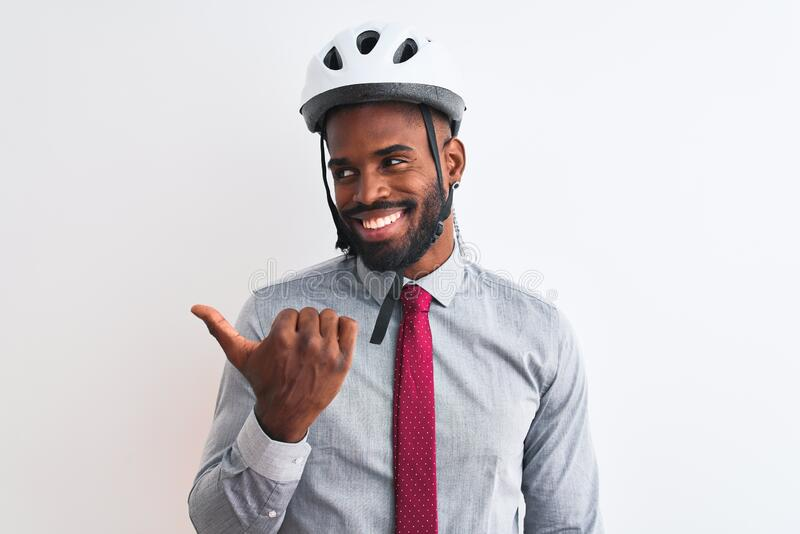helmet: (299, 17, 466, 272)
